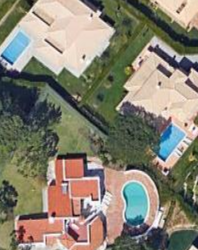pool: (122, 185, 150, 225), (154, 126, 179, 154), (4, 37, 37, 57)
